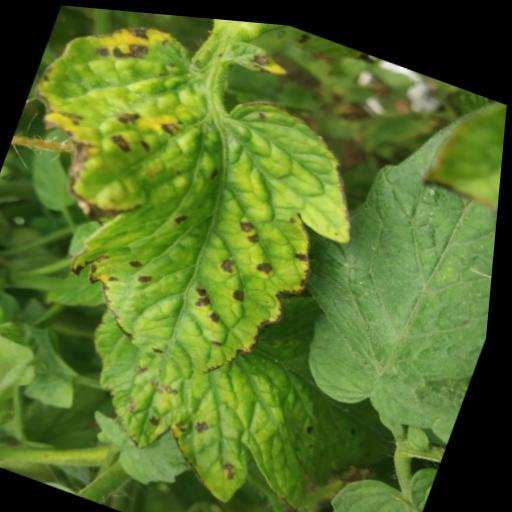Early Blight: (0, 0, 408, 411)
